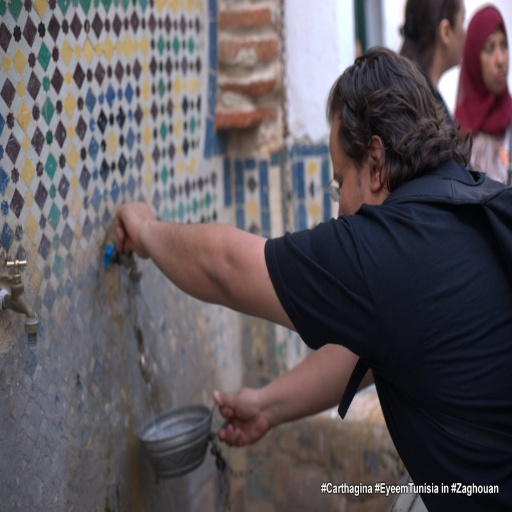hand: (101, 192, 165, 271), (211, 389, 270, 449)
